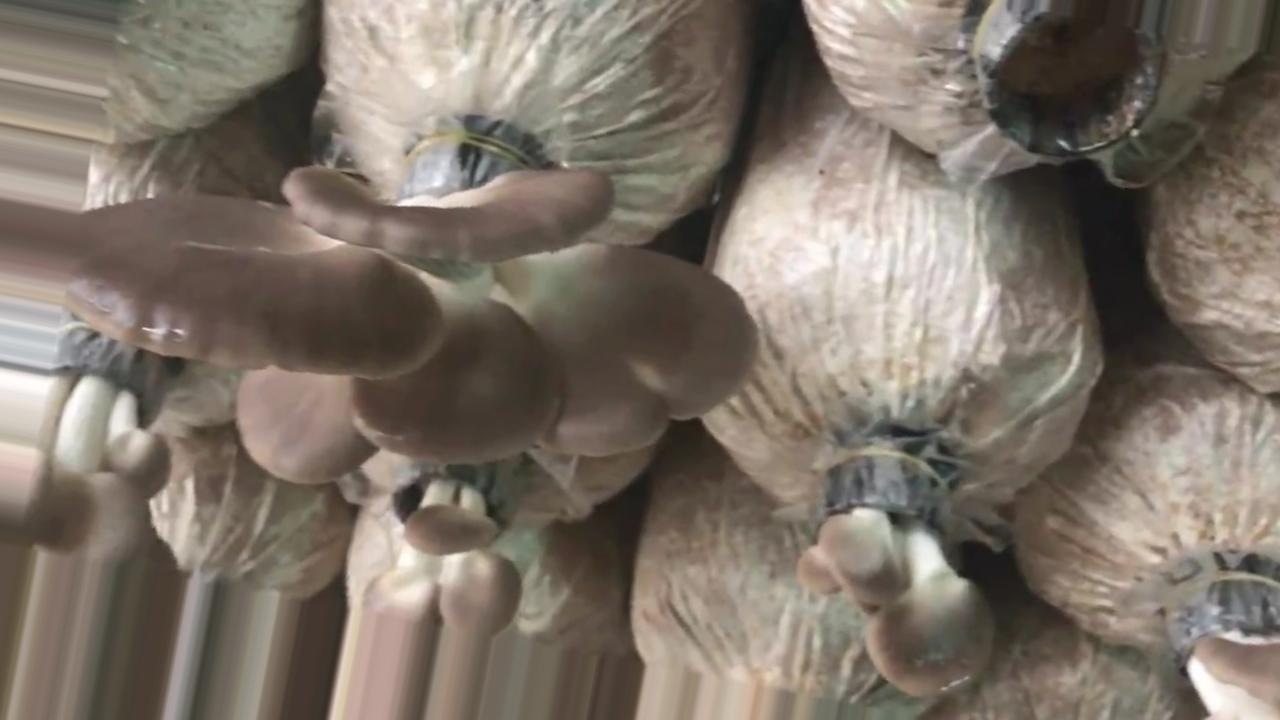nam: (68, 124, 761, 467), (798, 425, 995, 707), (6, 313, 177, 559), (360, 462, 520, 634)
